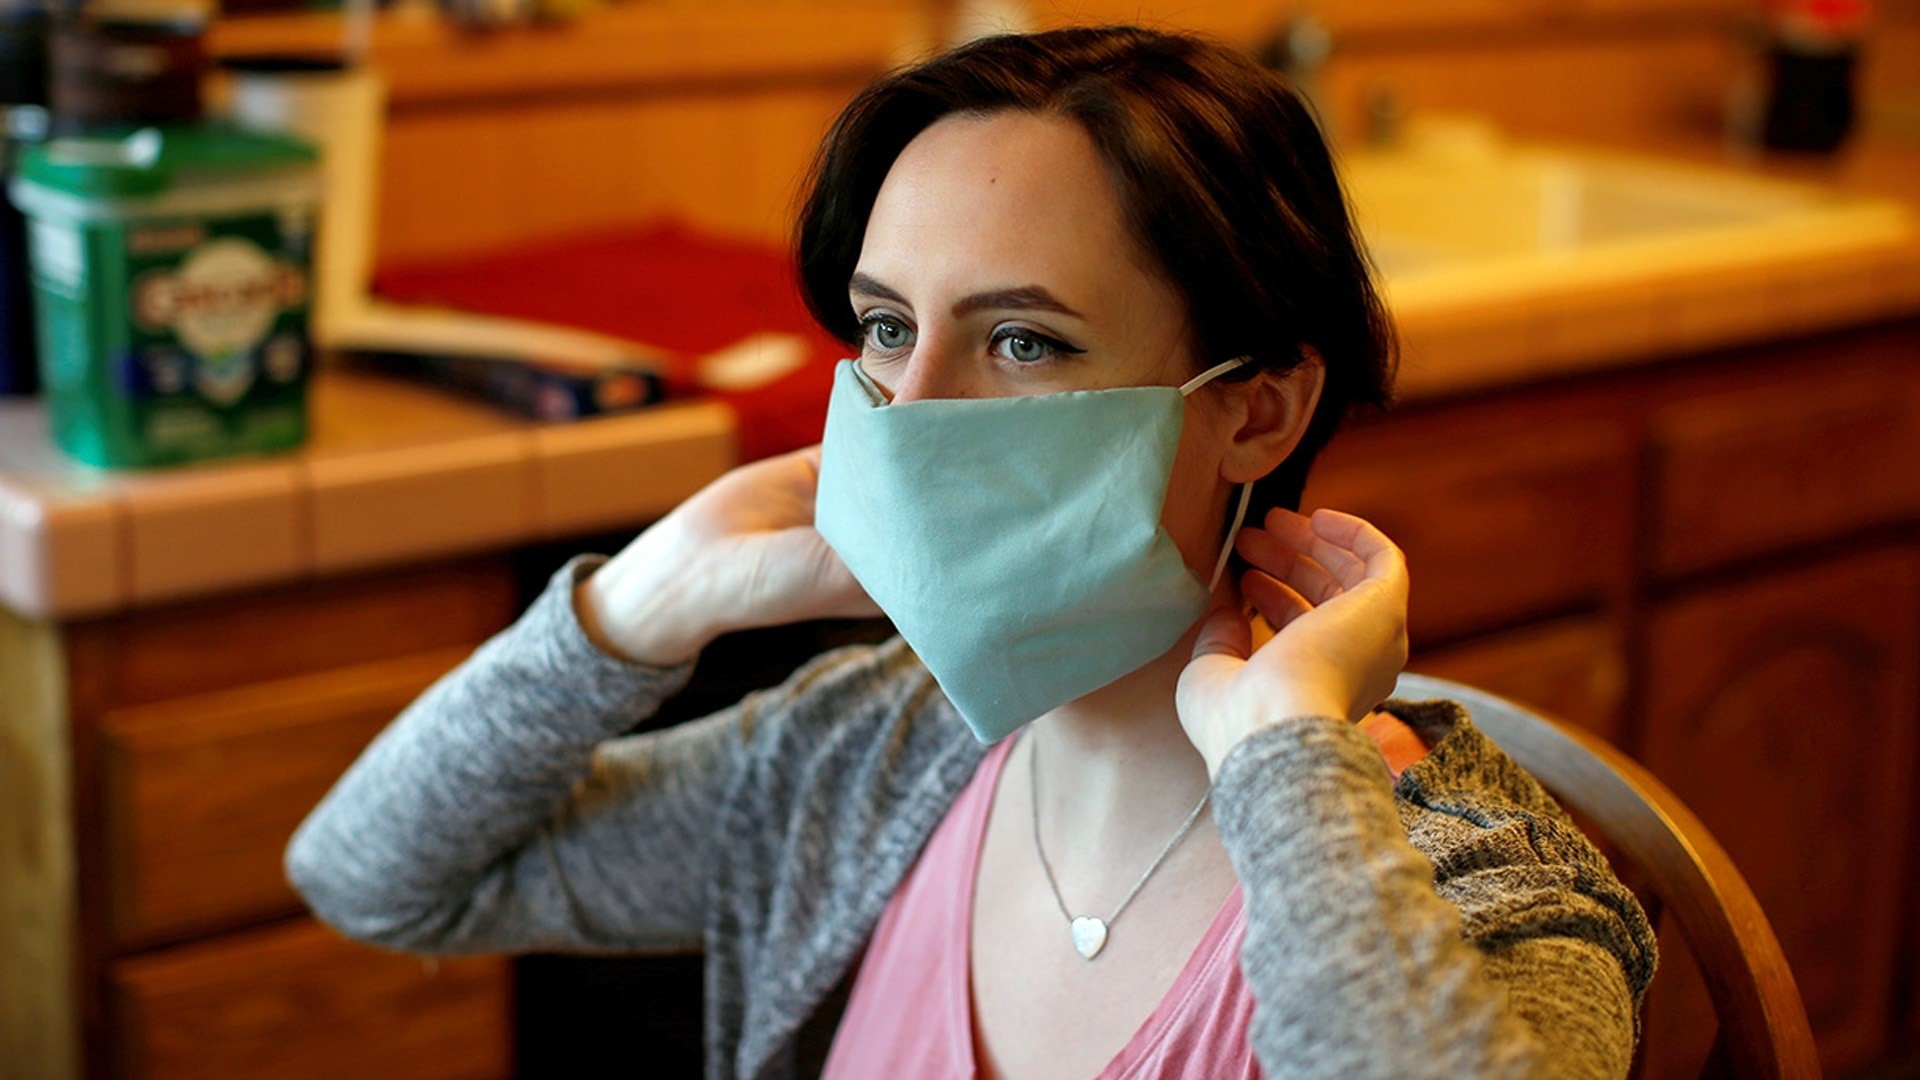face_with_mask: (778, 99, 1338, 793)
